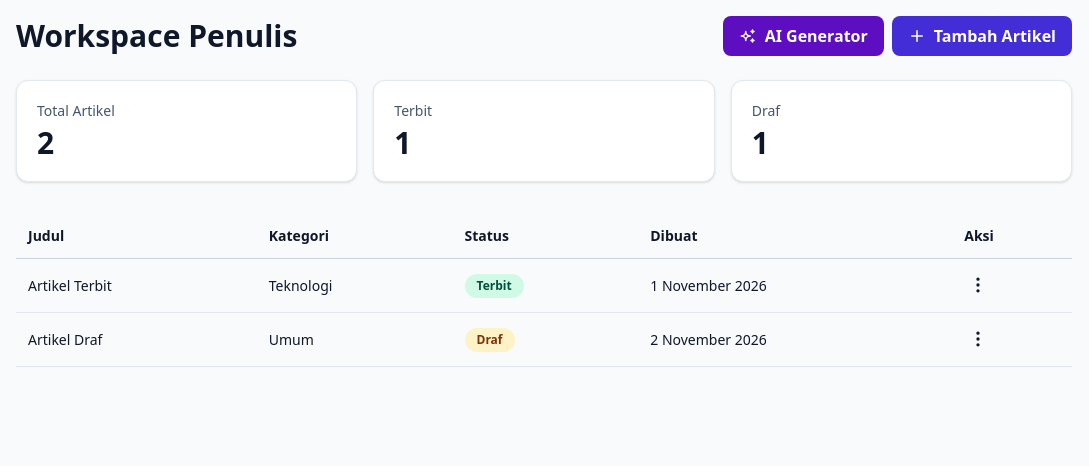
Test: AuthorDashboard › hapus artikel setelah konfirmasi
expect the text "Artikel Terbit" is shown: met, box [16,259,257,312]
Click the button named "Menu aksi Artikel Draf".
click(978, 339)  # box [964,325,992,353]
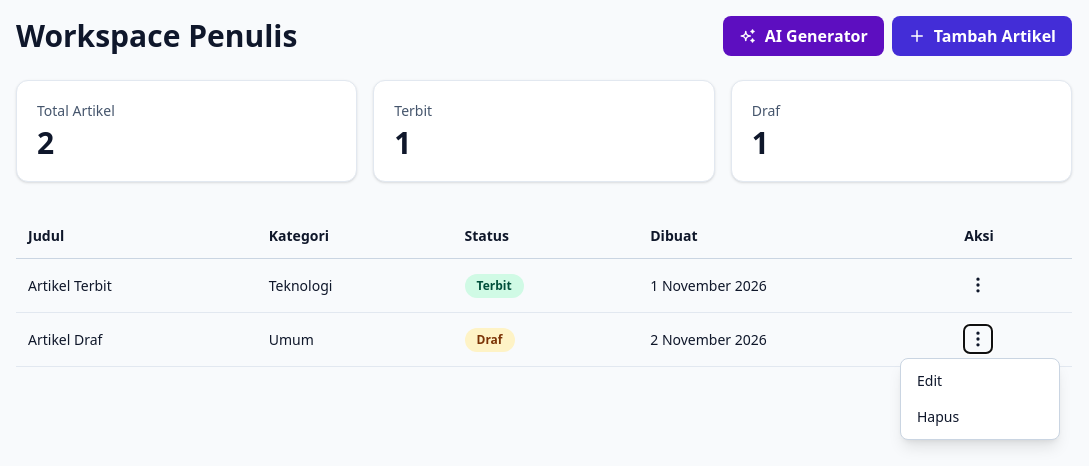
Click the menu item "Hapus".
click(980, 417)  # box [901,399,1059,435]
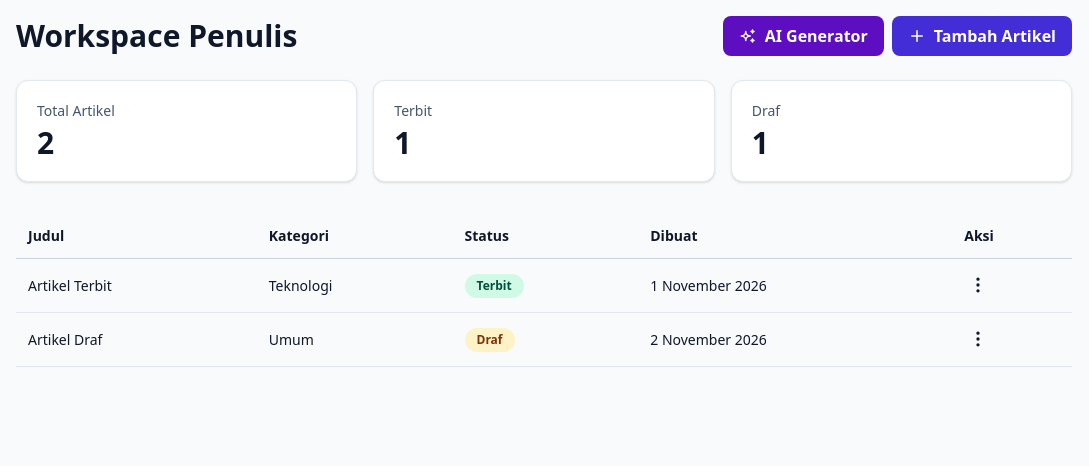
expect the menu is gone: met
